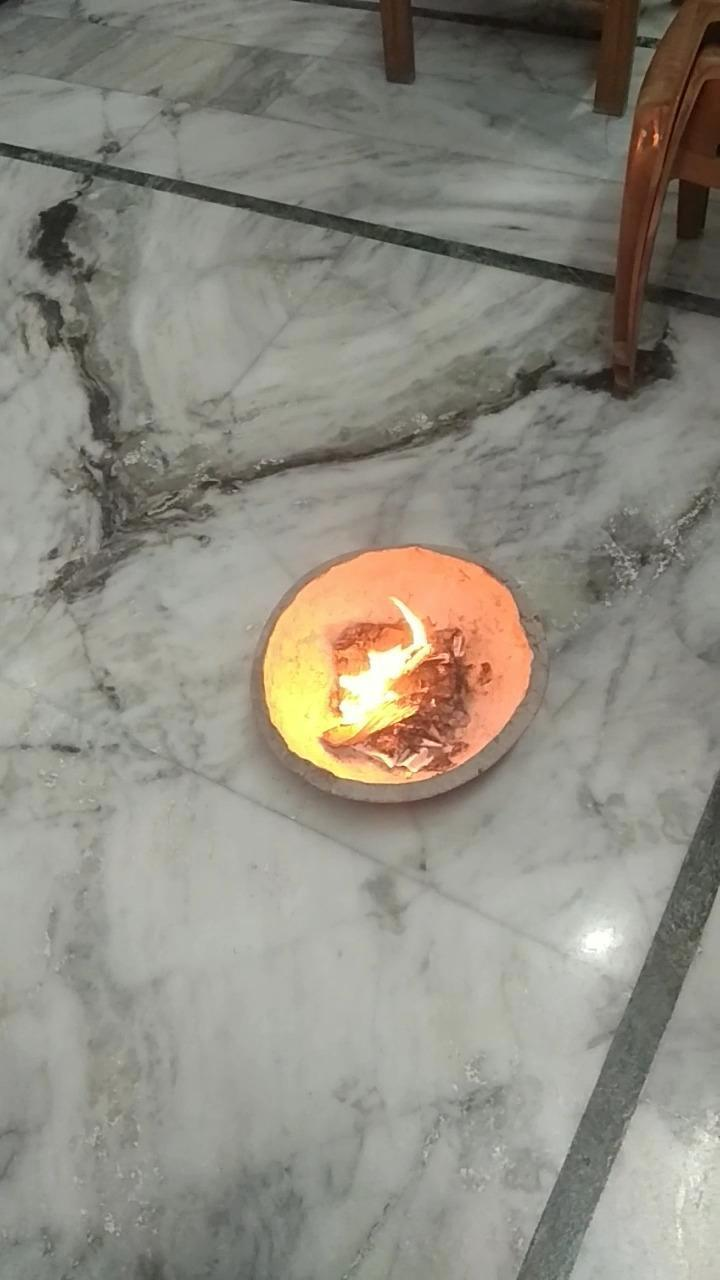fire: (325, 594, 438, 735)
